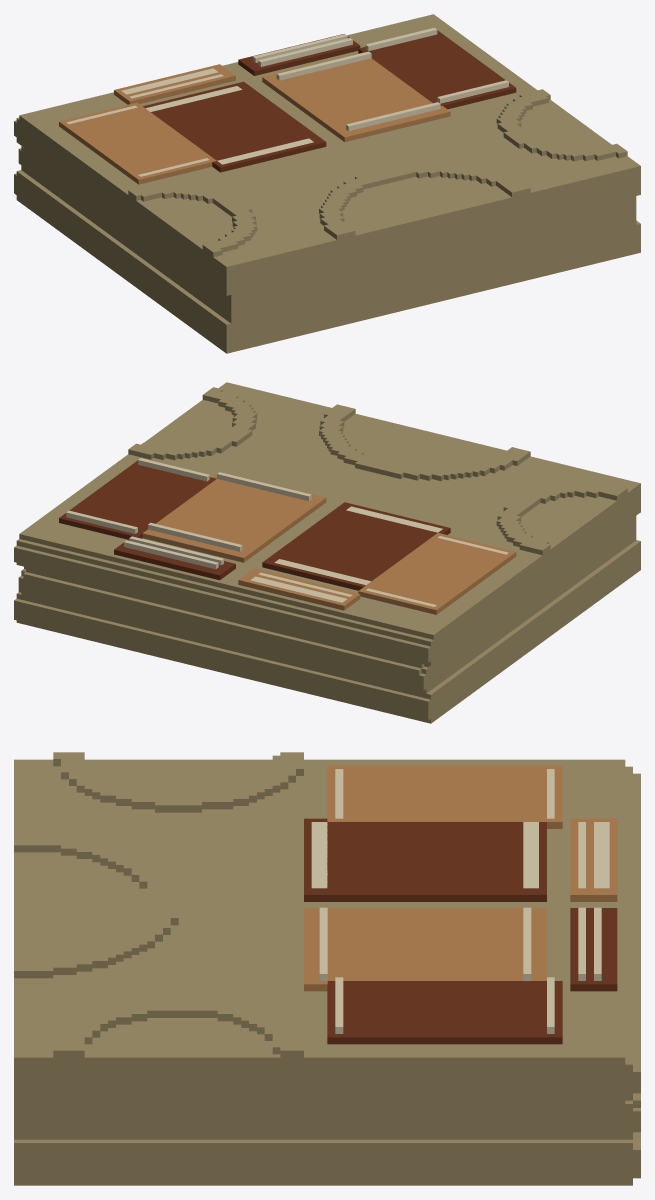
Rendered from survivor_adhoc_leather_torso.glb.
The picture shows the model from 3 angles, top to bottom: view 1: azimuth 30°, elevation 25°; view 2: azimuth 150°, elevation 25°; view 3: azimuth 270°, elevation 25°; orthographic projection. The views are drawn at different scales.
Parts seen in each view (by area): view 1: survivor_adhoc_leather_torso:compound; view 2: survivor_adhoc_leather_torso:compound; view 3: survivor_adhoc_leather_torso:compound.
Boxes of the visible parts, x1=… form: survivor_adhoc_leather_torso:compound: x1=14, y1=14, x2=640, y2=353; survivor_adhoc_leather_torso:compound: x1=14, y1=382, x2=640, y2=723; survivor_adhoc_leather_torso:compound: x1=14, y1=752, x2=640, y2=1185.
Size of the model in its own units: 0.36 by 0.08 by 0.32.
